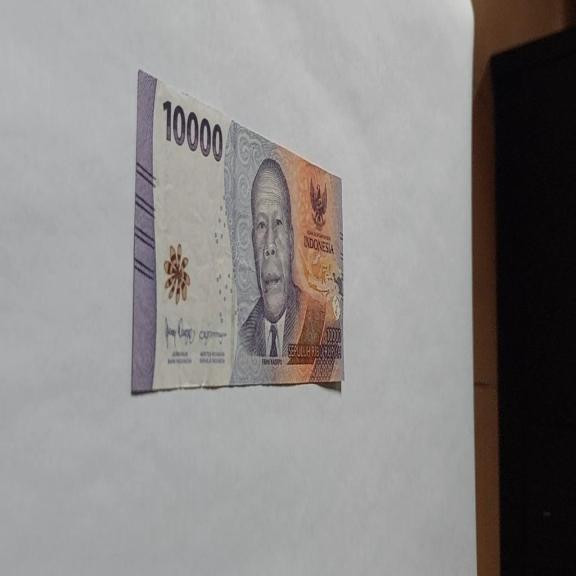Kertas: (130, 67, 346, 395), (161, 98, 224, 163)
